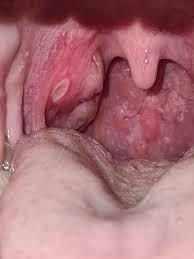Ulcer: (48, 77, 74, 106)
